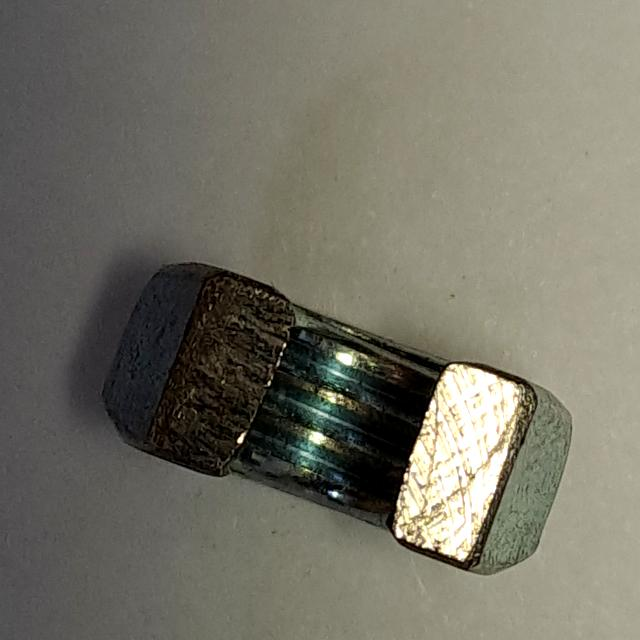Side-Fracture: (94, 244, 583, 594)
